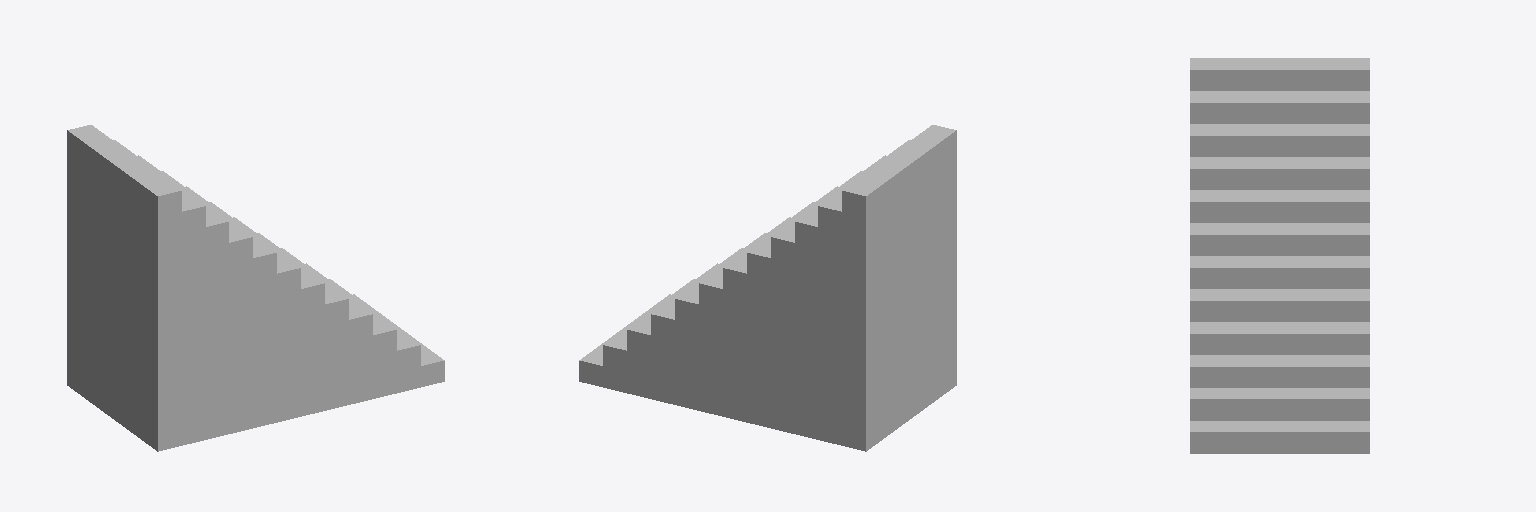
File: Stairs.obj
3 renders of one model, left to right at view 1: azimuth 30°, elevation 25°; view 2: azimuth 150°, elevation 25°; view 3: azimuth 270°, elevation 25°, orthographic.
Visible parts, largest first — view 1: Stairs; view 2: Stairs; view 3: Stairs.
Part boxes in pixels (x1,y1,x2,y2): Stairs: (67,125,444,451); Stairs: (579,125,956,451); Stairs: (1190,58,1369,453).
Size of the model in its own units: 20 by 17 by 10.92.